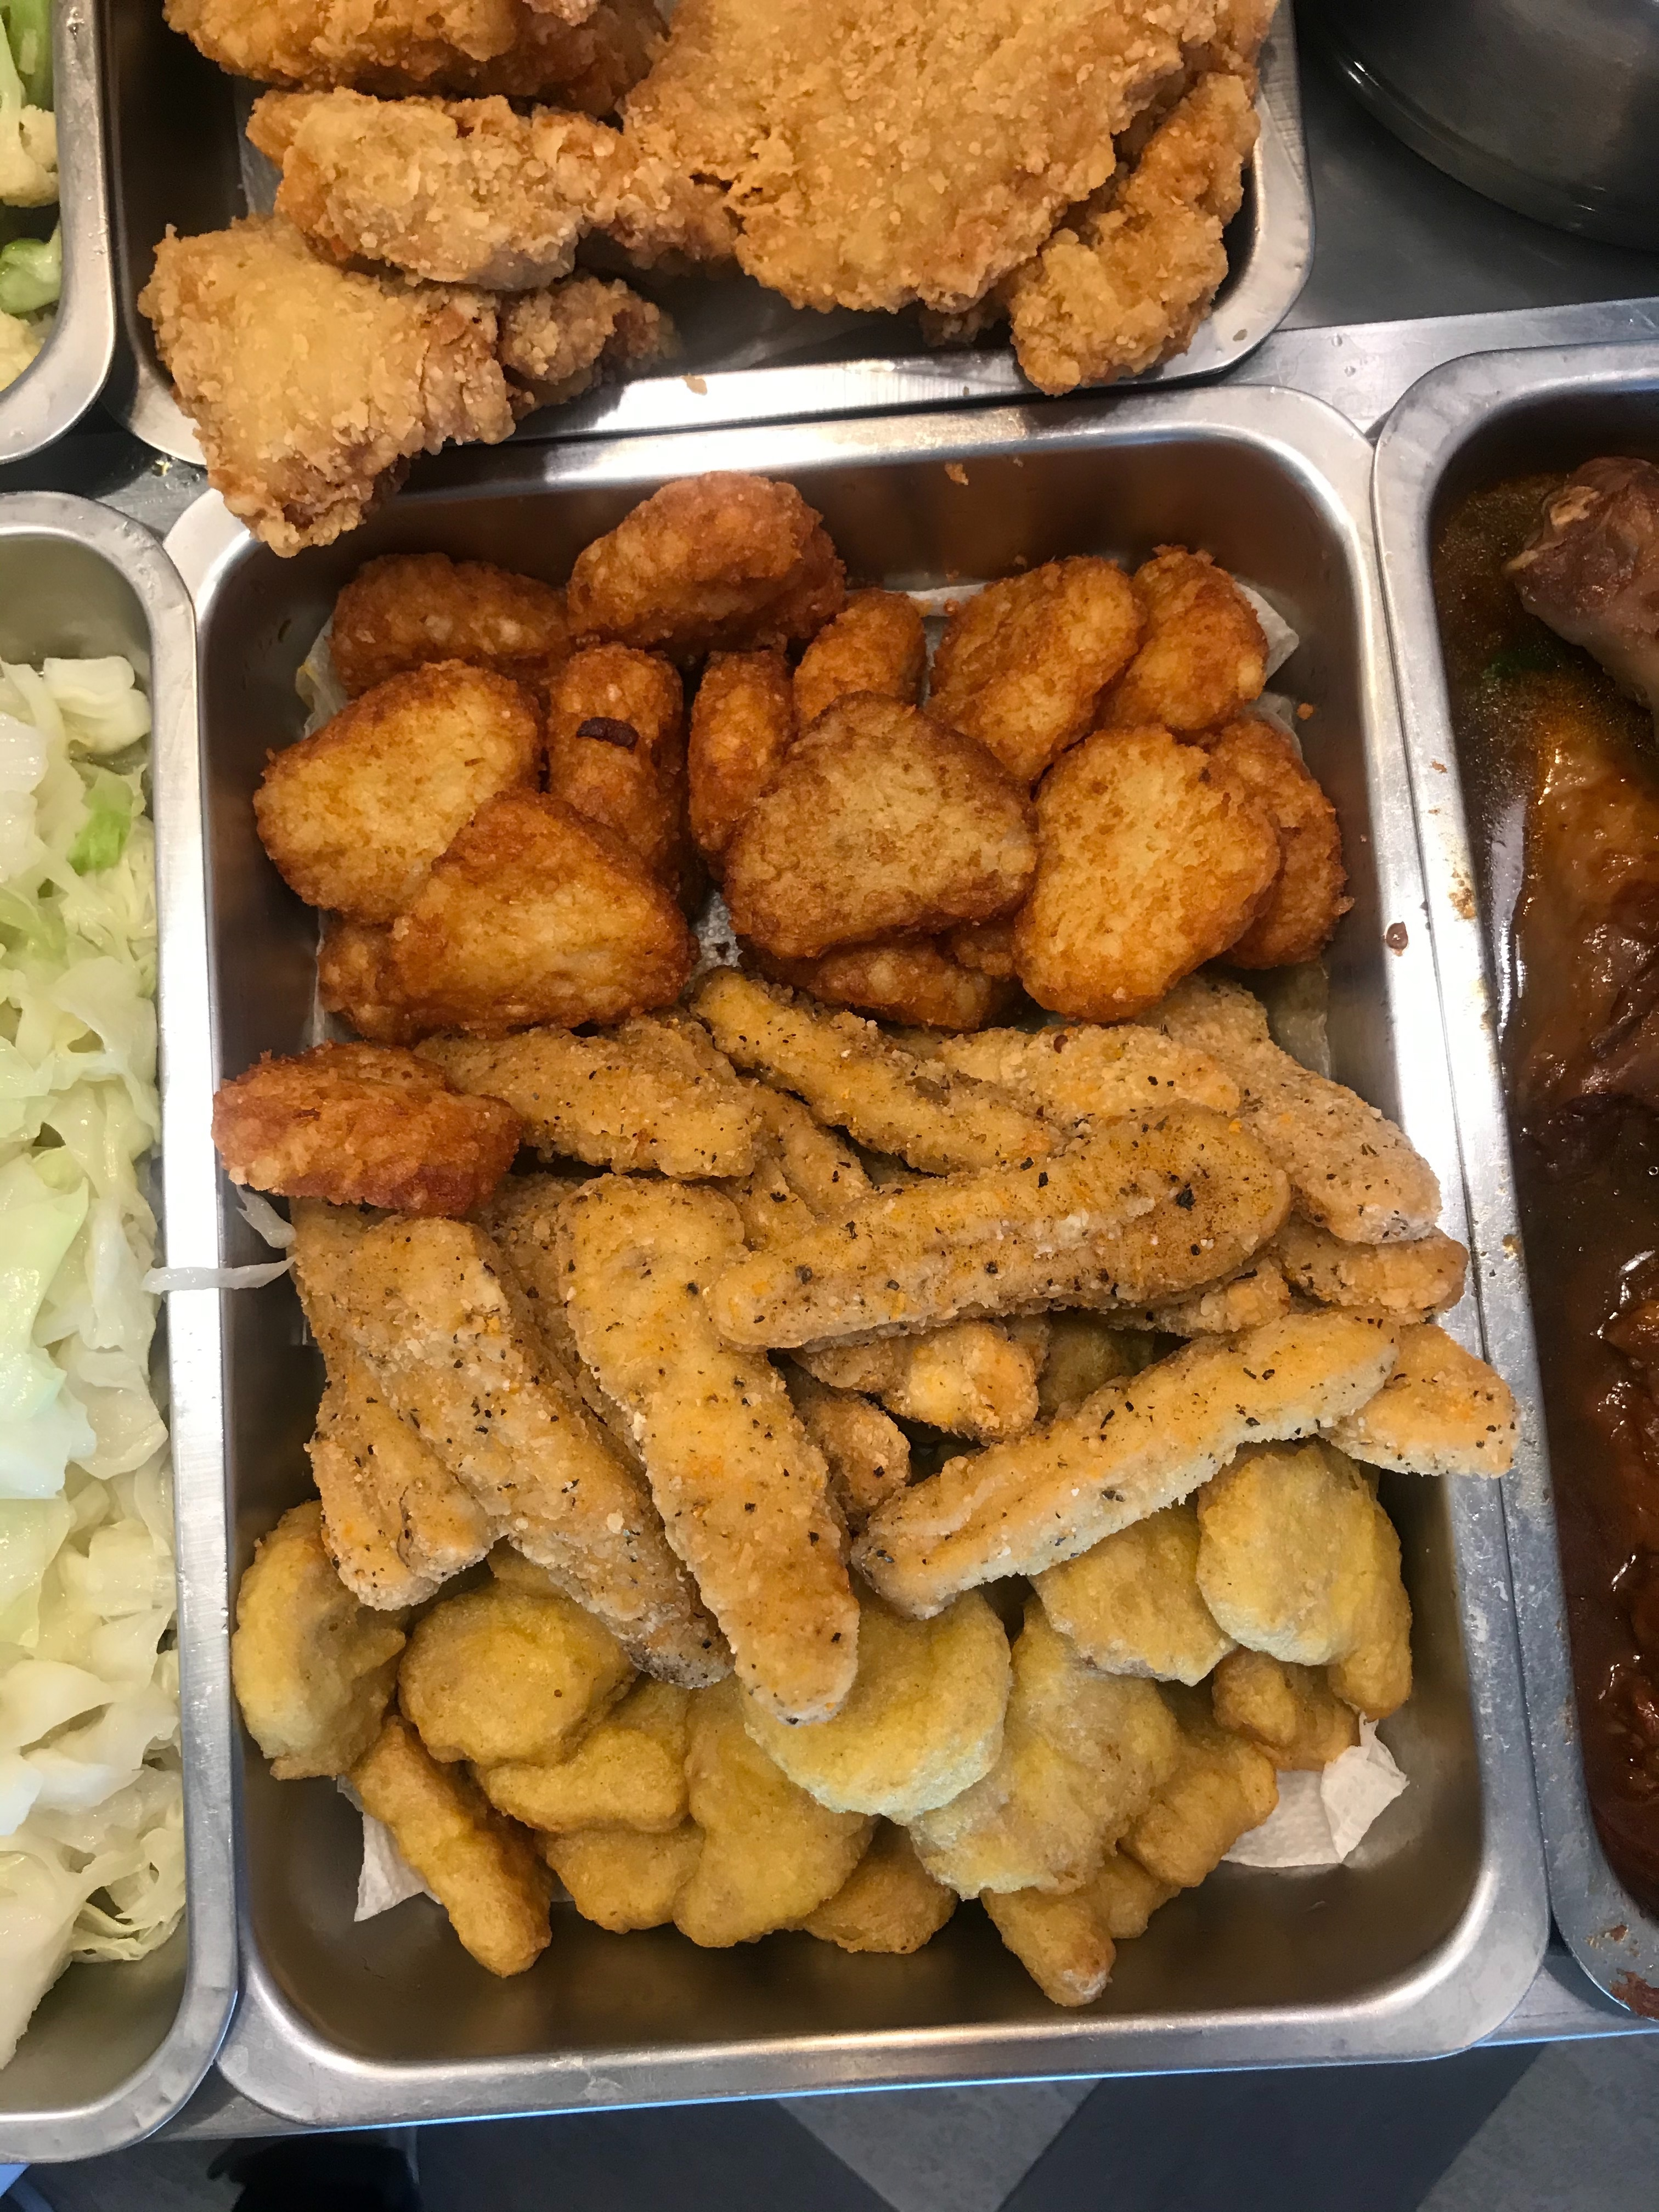chicken_nuggets: (249, 1486, 1398, 1956)
chinese_cabbage: (0, 648, 153, 1973)
triangle_hash_brown: (277, 543, 1291, 991)
